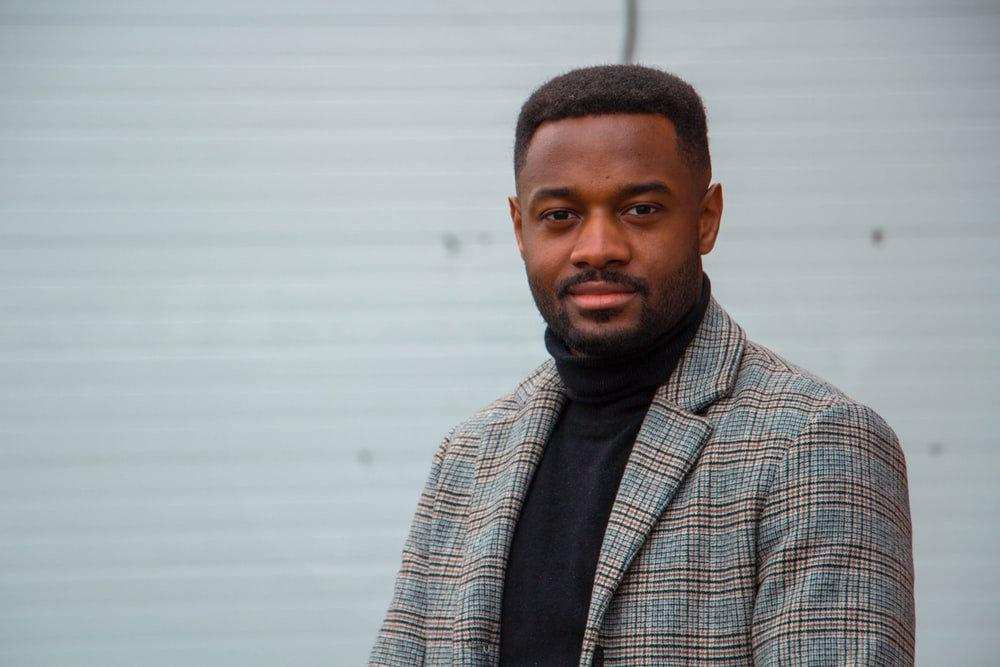Sober: (533, 137, 685, 335)
